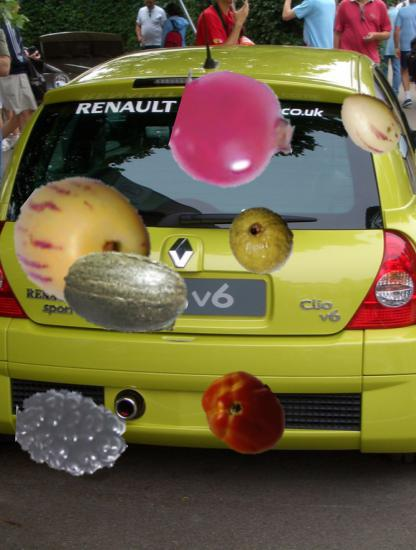Cactus: (108, 280, 178, 350)
Guava: (226, 205, 297, 276)
Melon: (62, 229, 189, 356)
Mulberry: (15, 376, 129, 490)
Pepino: (13, 172, 152, 311), (336, 87, 408, 159)
Redcurrant: (175, 71, 296, 192)
Tomato: (199, 369, 290, 460)
